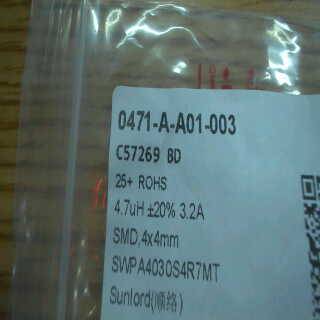4.7uH: (112, 197, 146, 223)
